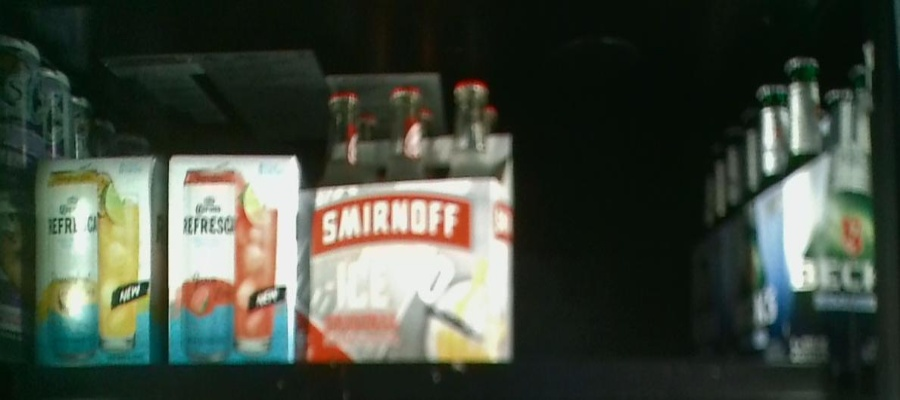bottle: (313, 78, 518, 371), (697, 61, 870, 367), (168, 152, 305, 368), (34, 158, 165, 364)
